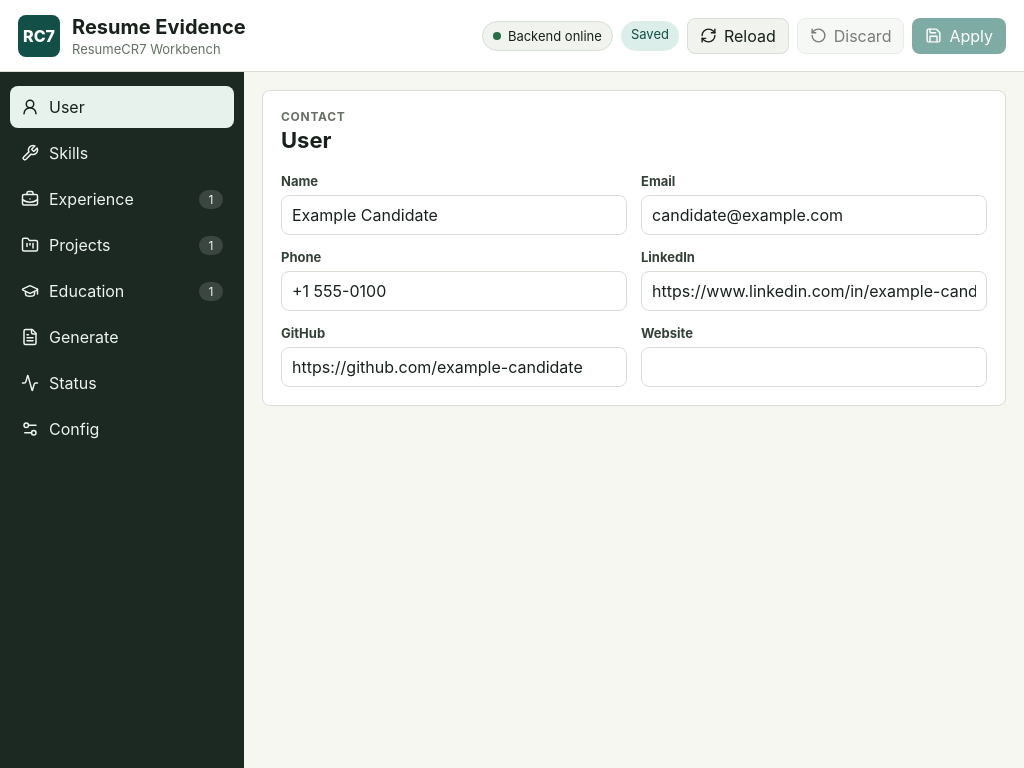
App › blocks resume generation while evidence edits are staged
The width and height of the screenshot is (1024, 768).
Replace the text in the field labelled "Email" with "updated@example.com" at (814, 214), box [641, 194, 987, 234]
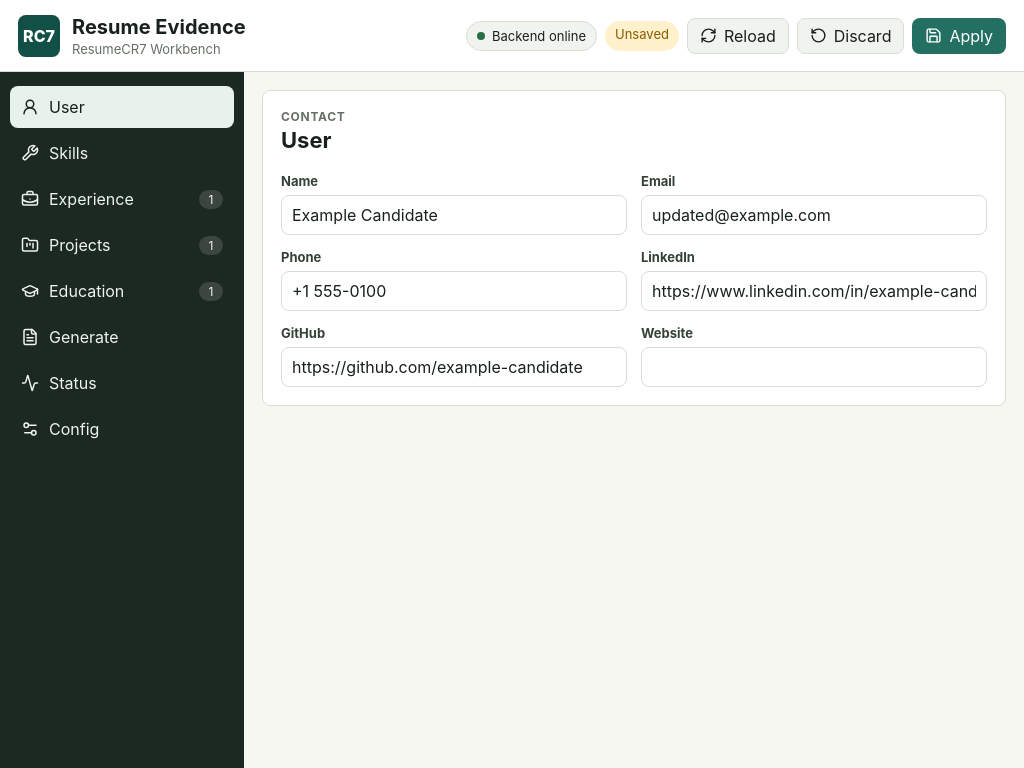
Click the button "Generate" at (122, 337), box [10, 316, 234, 358]
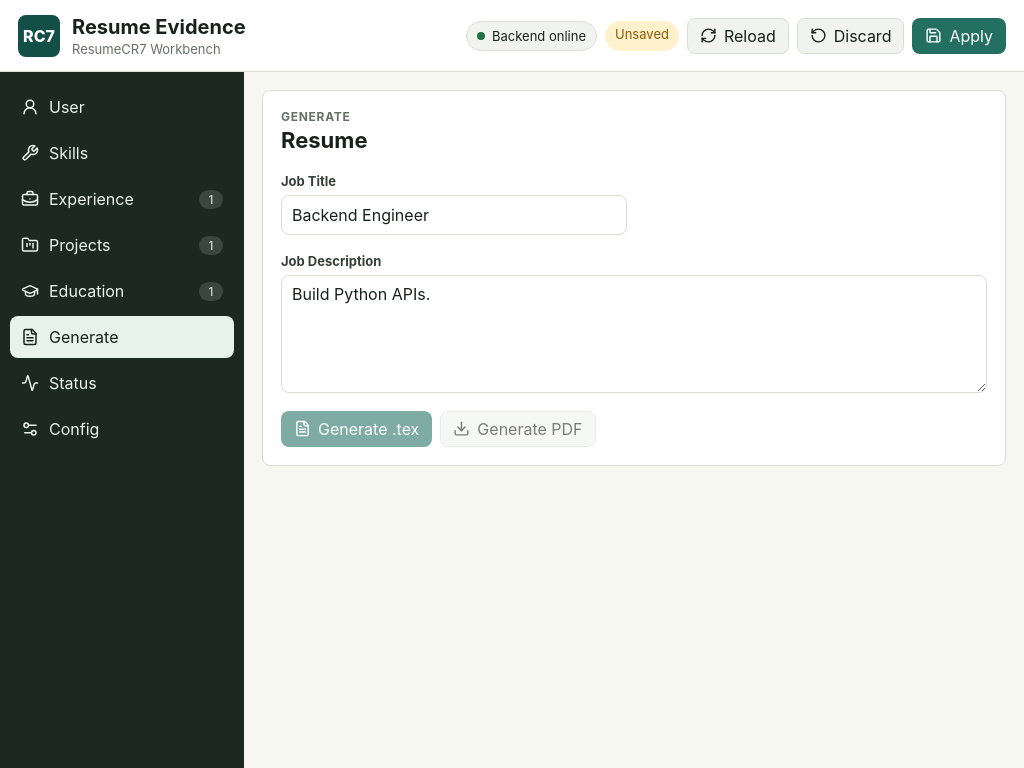
expect the button "Generate .tex" is disabled: met, box [281, 410, 432, 446]
